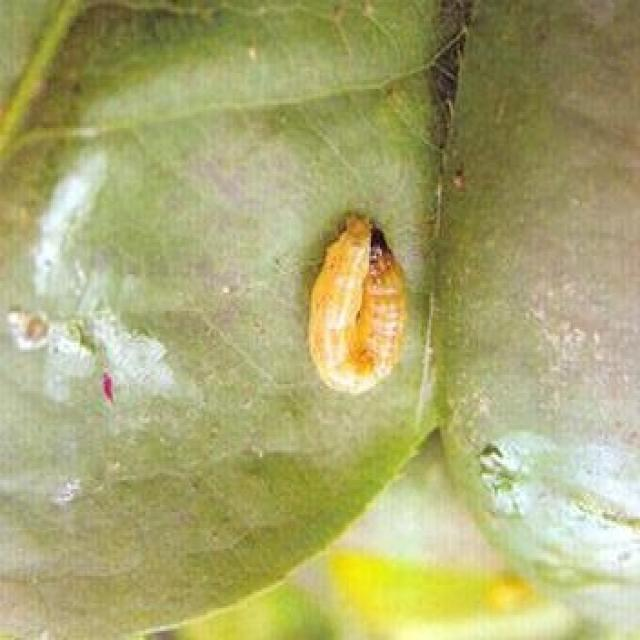peach borer: (309, 214, 407, 397)
